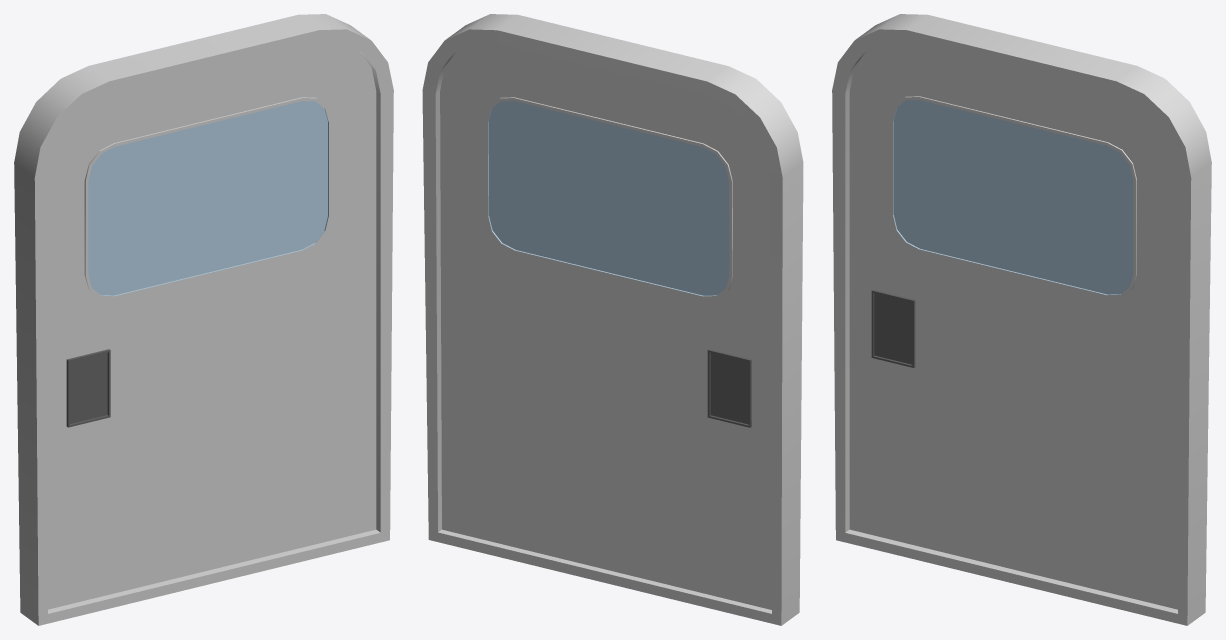
File: door.fbx
The picture shows the model from 3 angles, left to right: view 1: azimuth 30°, elevation 25°; view 2: azimuth 150°, elevation 25°; view 3: azimuth 330°, elevation 25°; orthographic projection.
Parts seen in each view (by area): view 1: door, Cube.026; view 2: door, Cube.026; view 3: door, Cube.026.
Boxes of the visible parts, x1,y1,x2,y2 form: door: [14, 14, 393, 625]; Cube.026: [66, 349, 110, 427]; door: [422, 14, 803, 625]; Cube.026: [707, 349, 751, 427]; door: [832, 14, 1211, 625]; Cube.026: [871, 289, 915, 367].
Bounding box in the file's own units: 218 × 307 × 22.17.
